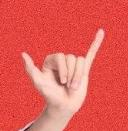clockwise: (18, 24, 107, 110)
